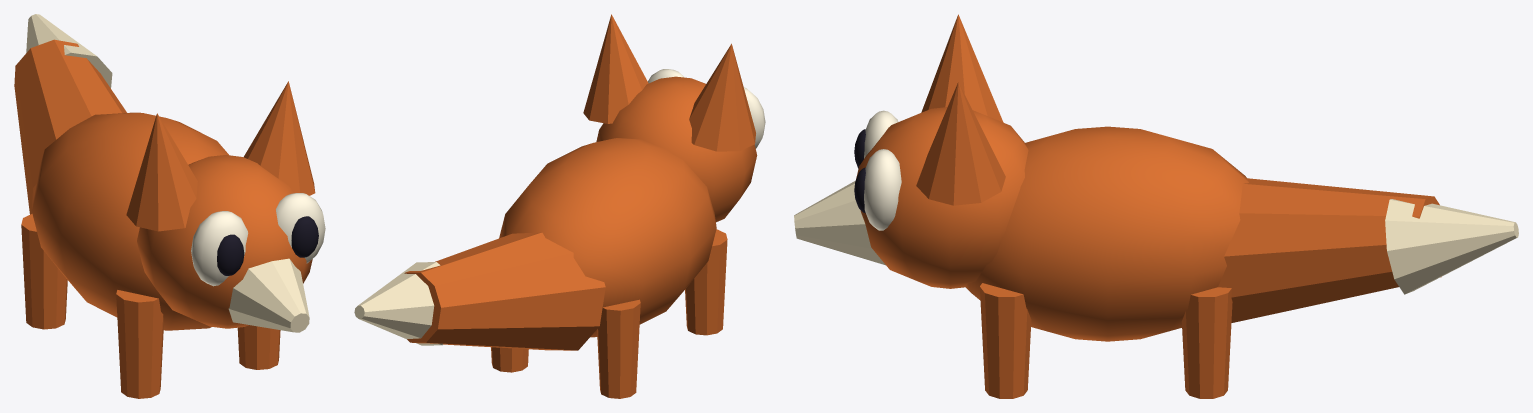
The model's file is fox.glb.
3 renders of one model, left to right at view 1: azimuth 30°, elevation 25°; view 2: azimuth 150°, elevation 25°; view 3: azimuth 270°, elevation 25°, orthographic. The views are drawn at different scales.
Parts seen in each view (by area): view 1: fox.001; view 2: fox.001; view 3: fox.001.
Part boxes in pixels (x1=…): fox.001: x1=14, y1=14, x2=325, y2=398; fox.001: x1=354, y1=14, x2=765, y2=398; fox.001: x1=794, y1=14, x2=1518, y2=398.
Size of the model in its own units: 0.8492 by 1.29 by 2.72.
